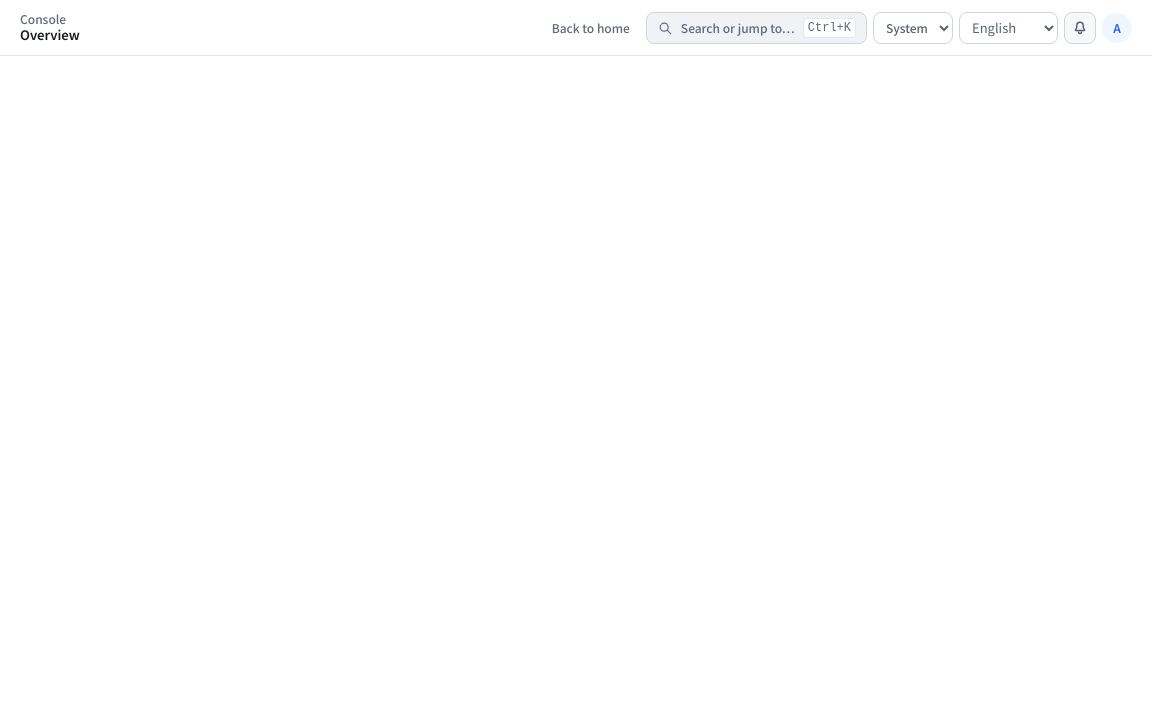
it: console notification bell › allows manual retry when the 429 has no Retry-After header
Click the button named "Notifications": (1080, 28) [1064,12,1096,44]
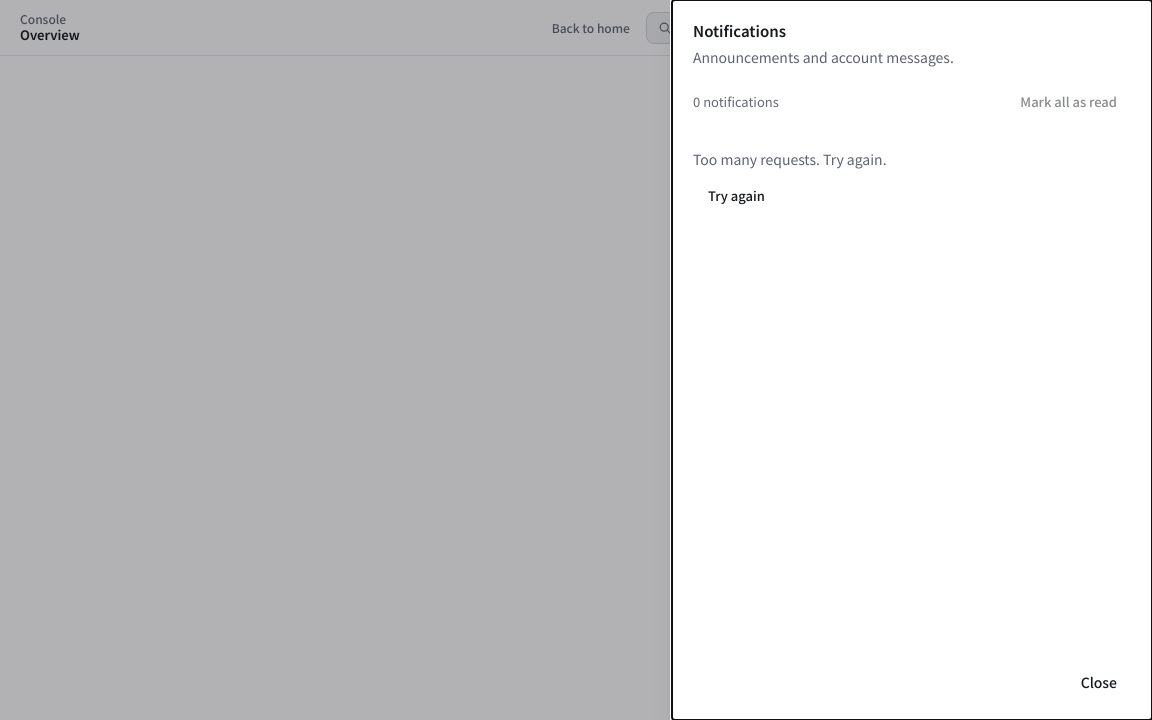
Expected: the text "Too many requests. Try again." is shown, [693,148,886,170]
Expected: the button "Try again" is enabled, [693,178,780,214]
